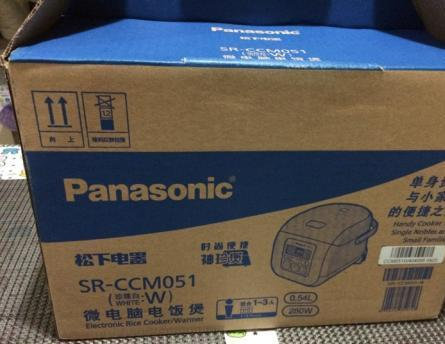cardboard: (2, 14, 444, 340)
